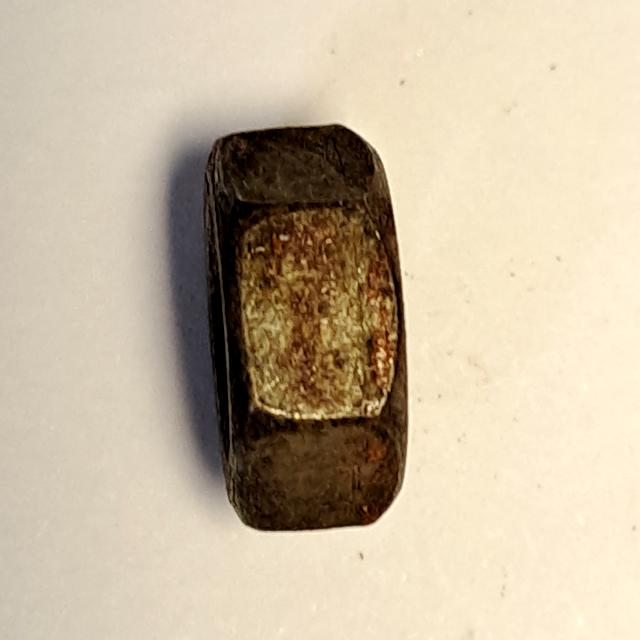Side_Rust: (190, 111, 433, 548)
